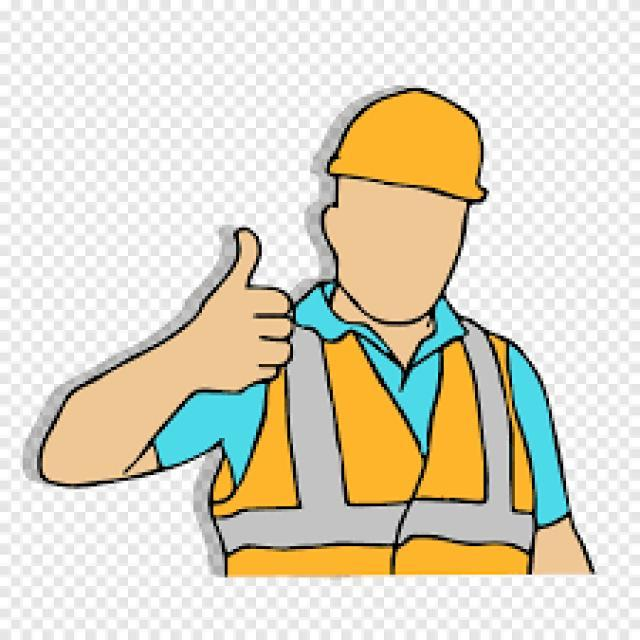reflective_jacket: (28, 284, 554, 588)
safety_helmet: (324, 85, 489, 204)
